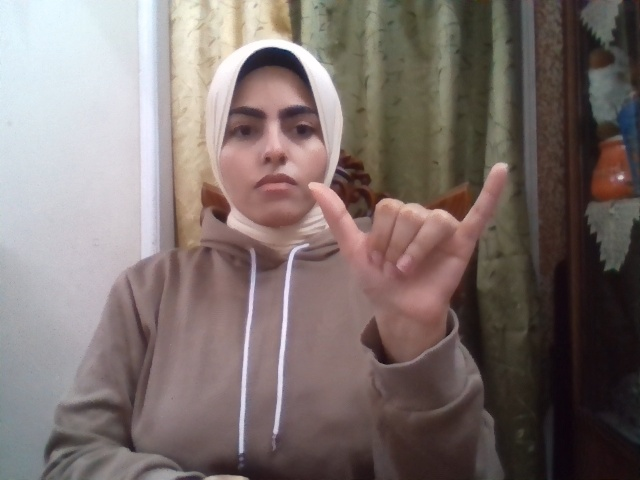Y: (308, 162, 509, 330)
